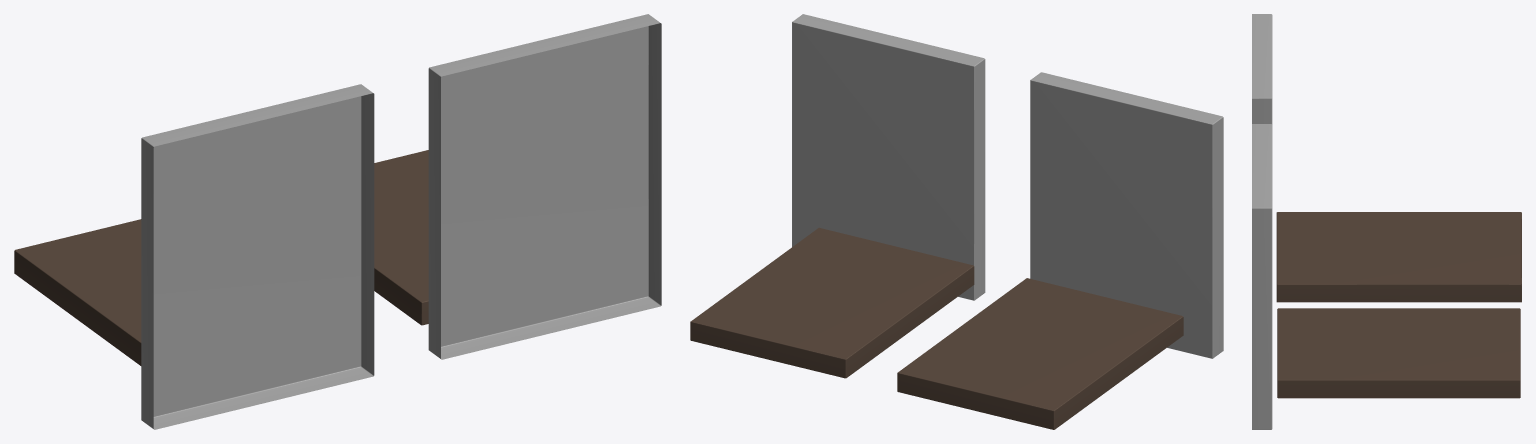
The model's file is MMM_TV_Background.fbx.
The picture shows the model from 3 angles, left to right: view 1: azimuth 30°, elevation 25°; view 2: azimuth 150°, elevation 25°; view 3: azimuth 270°, elevation 25°; orthographic projection. The views are drawn at different scales.
Visible parts, largest first — view 1: background_wall_02, background_wall_01, tabletop_02, tabletop_01; view 2: background_wall_02, background_wall_01, tabletop_02, tabletop_01; view 3: tabletop_02, tabletop_01, background_wall_01, background_wall_02.
Part boxes in pixels (bbox=[...]): background_wall_02: bbox=[141, 84, 374, 429]; background_wall_01: bbox=[428, 14, 661, 359]; tabletop_02: bbox=[14, 219, 141, 365]; tabletop_01: bbox=[374, 150, 428, 325]; background_wall_02: bbox=[1030, 72, 1223, 358]; background_wall_01: bbox=[792, 14, 985, 300]; tabletop_02: bbox=[897, 278, 1183, 429]; tabletop_01: bbox=[690, 227, 974, 378]; tabletop_02: bbox=[1276, 212, 1521, 302]; tabletop_01: bbox=[1277, 308, 1520, 398]; background_wall_01: bbox=[1252, 124, 1272, 429]; background_wall_02: bbox=[1252, 14, 1272, 124].
Bounding box in the file's own units: 8978 × 4787 × 5266.
